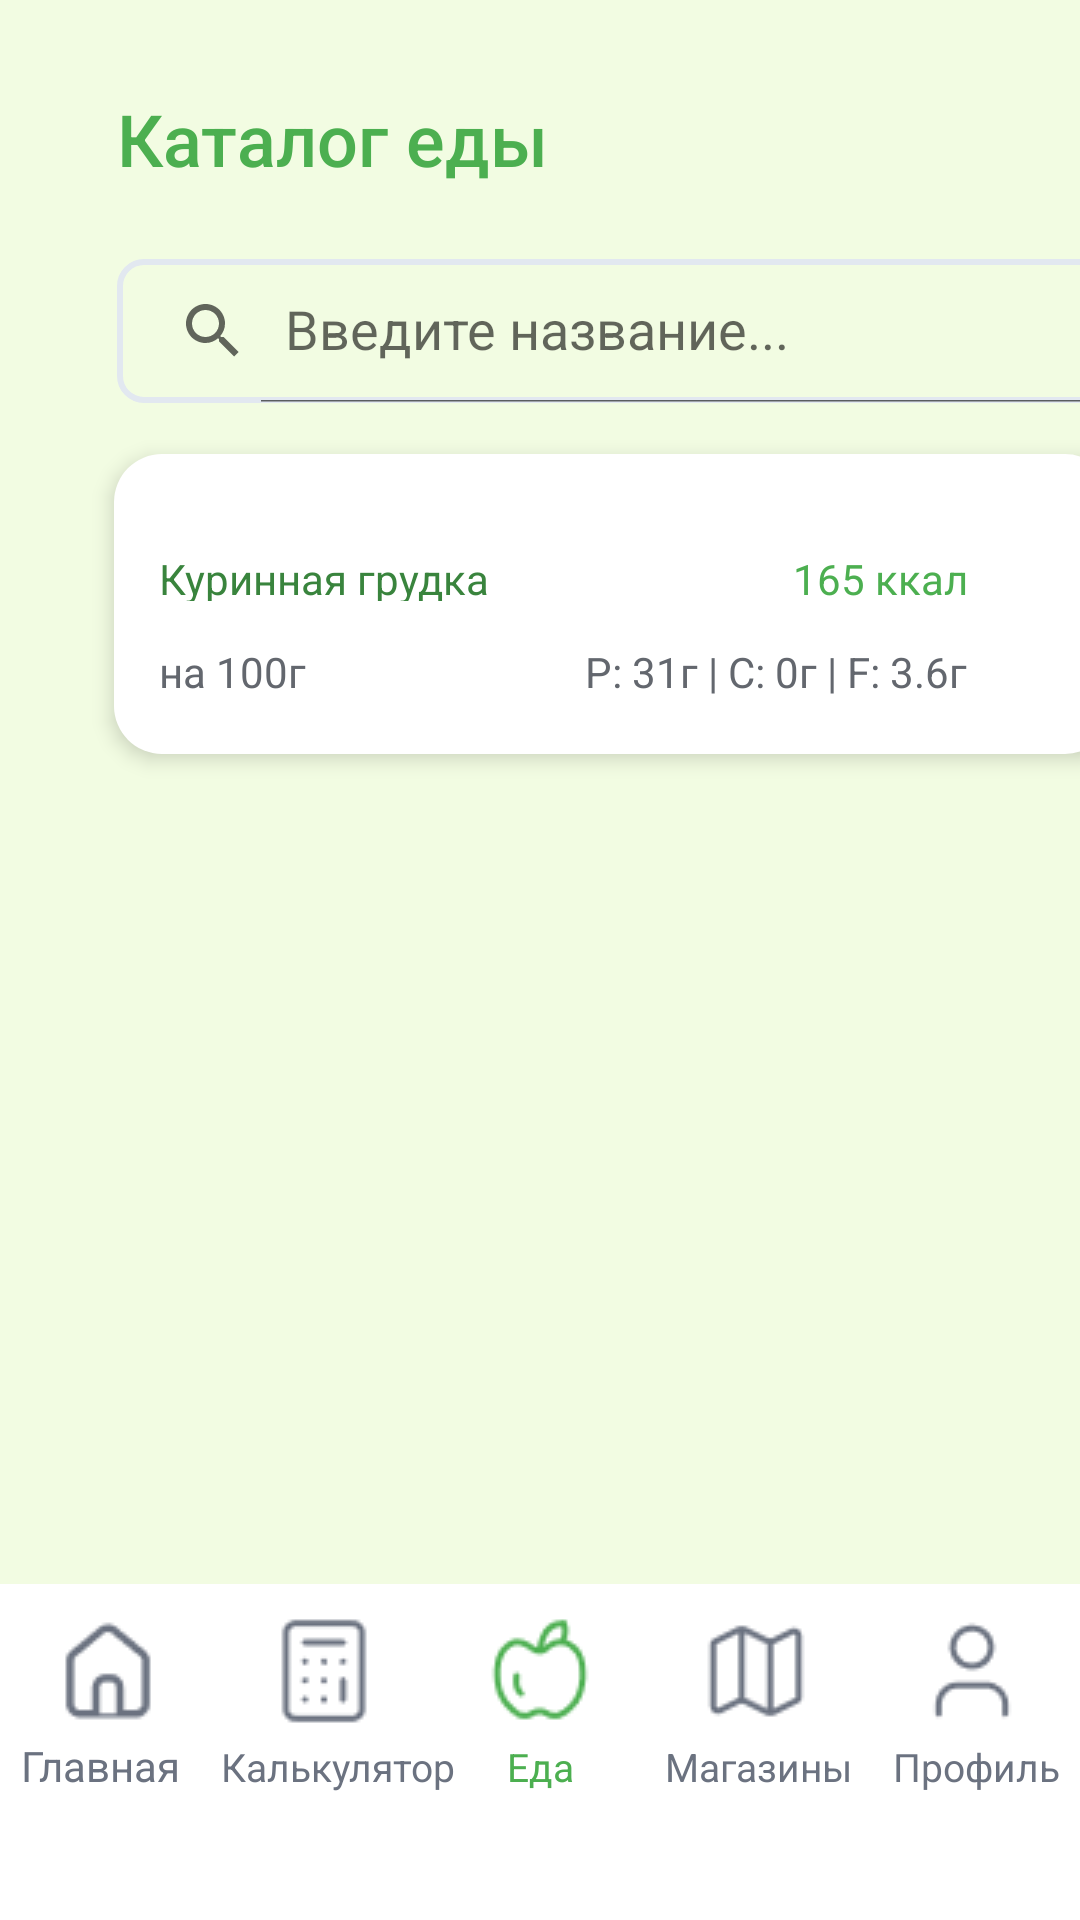

Icons on this 1080px x 1920px Android screen, each with its box as [x1,y1,x2,y2]:
apple: [492,1619,588,1720]
map: [708,1625,804,1717]
user: [935,1623,1009,1717]
